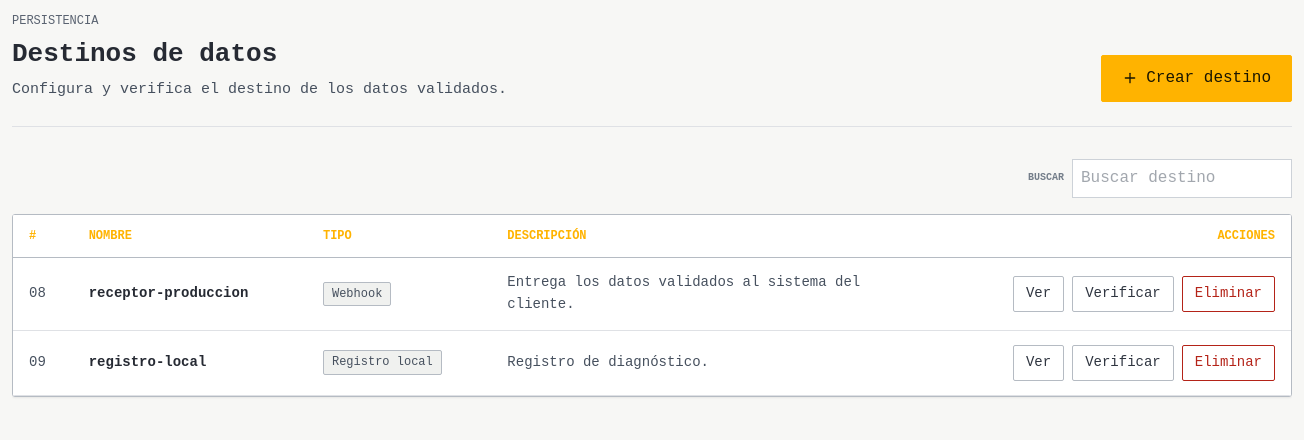
Test: StoresClient › muestra el resultado real de una verificación fallida
Click the button "Verificar" in the row of "08".
click(1123, 294)  # box [1072,276,1174,312]
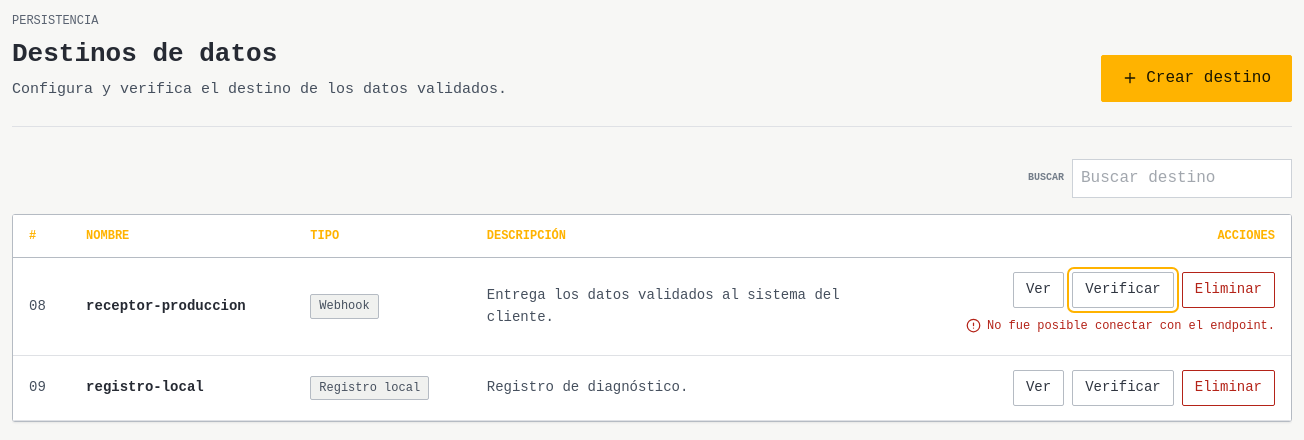
Check: the message reads "No fue posible conectar con el endpoint.", box [987,319,1275,333]
